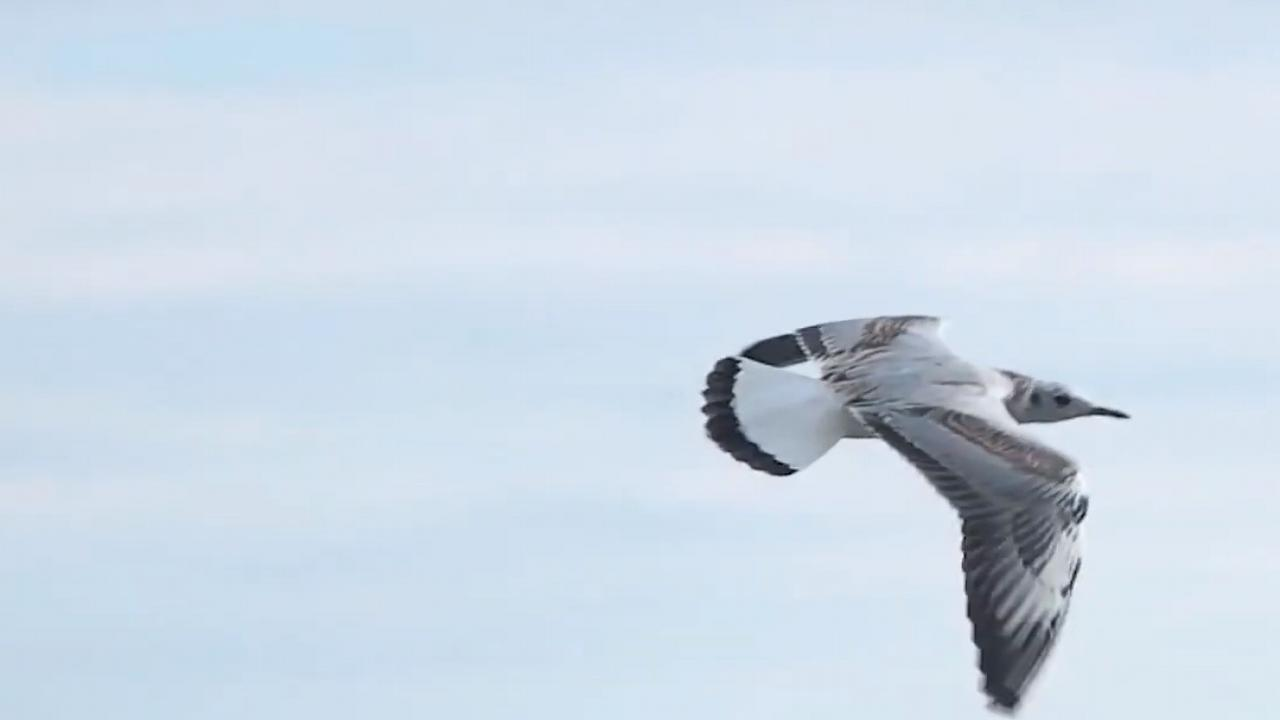Bird: (694, 301, 1144, 720)
